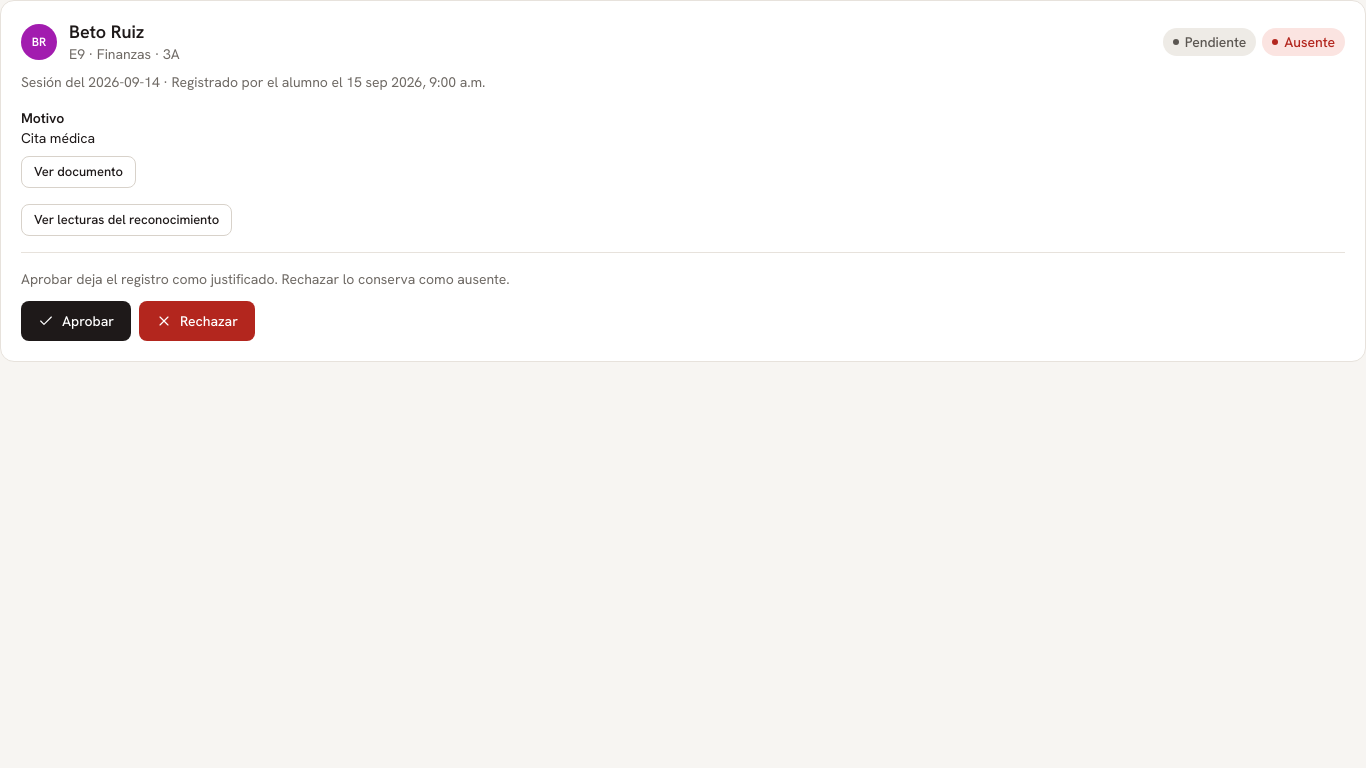
Scenario: JustificanteCard › rechazar exige el motivo dentro del diálogo: sin texto no resuelve y marca el campo
Click the button "Rechazar": (197,320) [139,300,255,340]
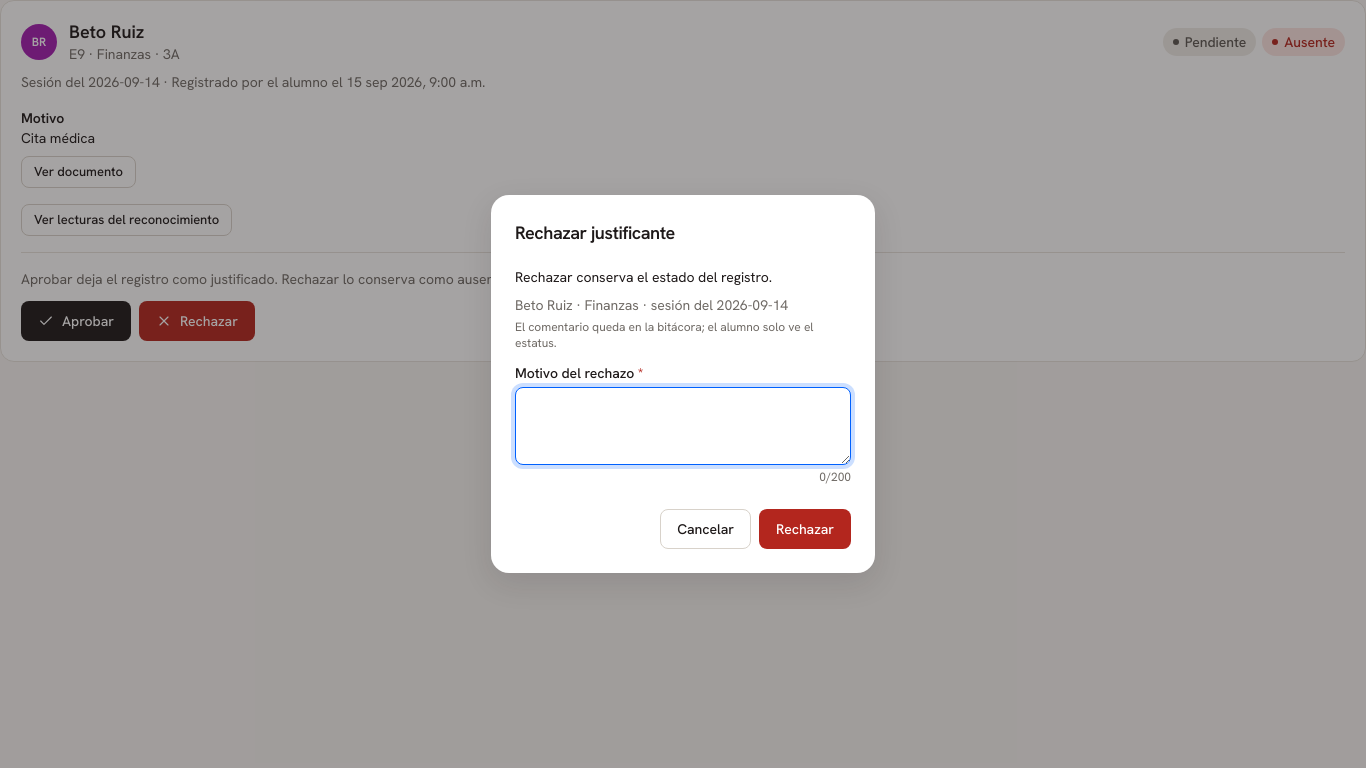
Result: the heading "Rechazar justificante" is shown at [515,221,675,244]
Click the button "Rechazar": (805,529) [759,509,851,549]
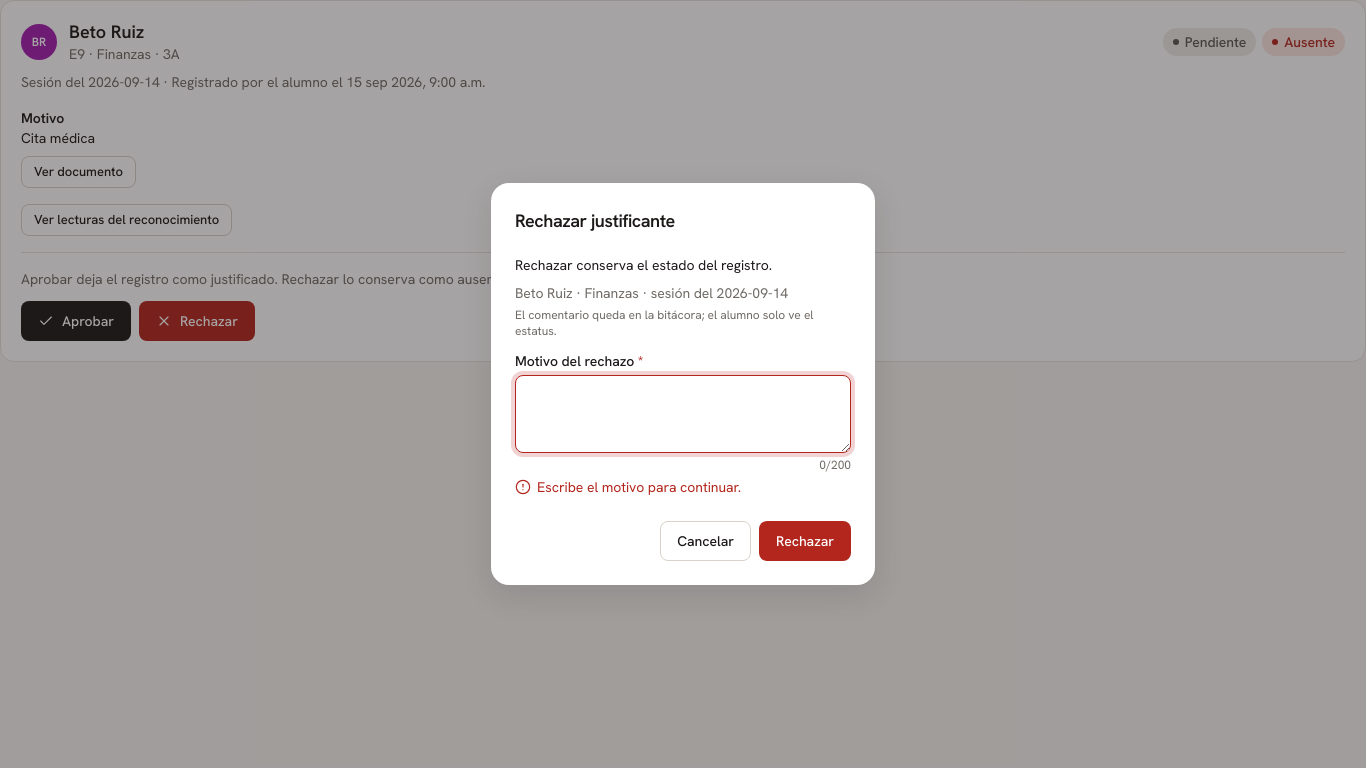
Result: the text "Escribe el motivo para continuar." is shown at [515,478,741,496]
In the text box labelled "Motivo del rechazo *": (683,414) [515,375,851,453], type "  El documento no corresponde a la fecha "
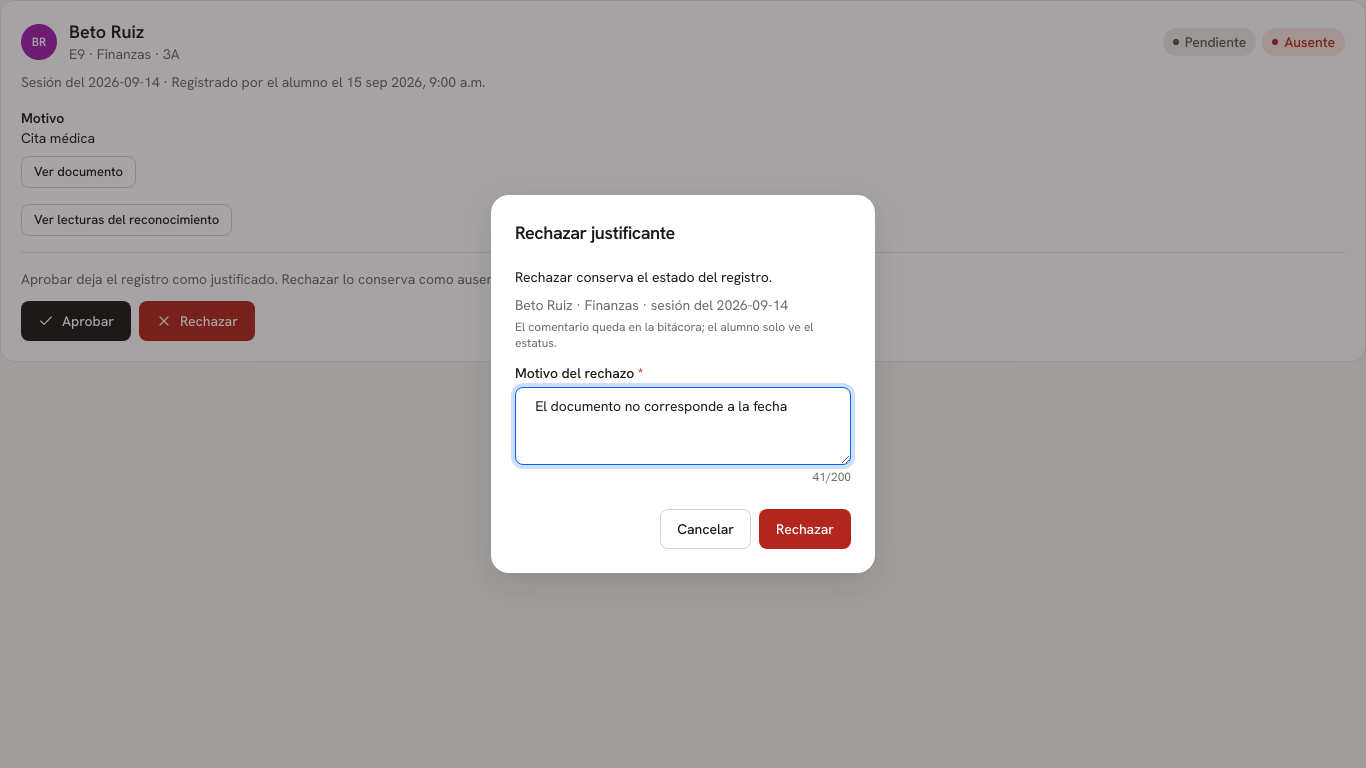
Click the button "Rechazar": (805,529) [759,509,851,549]
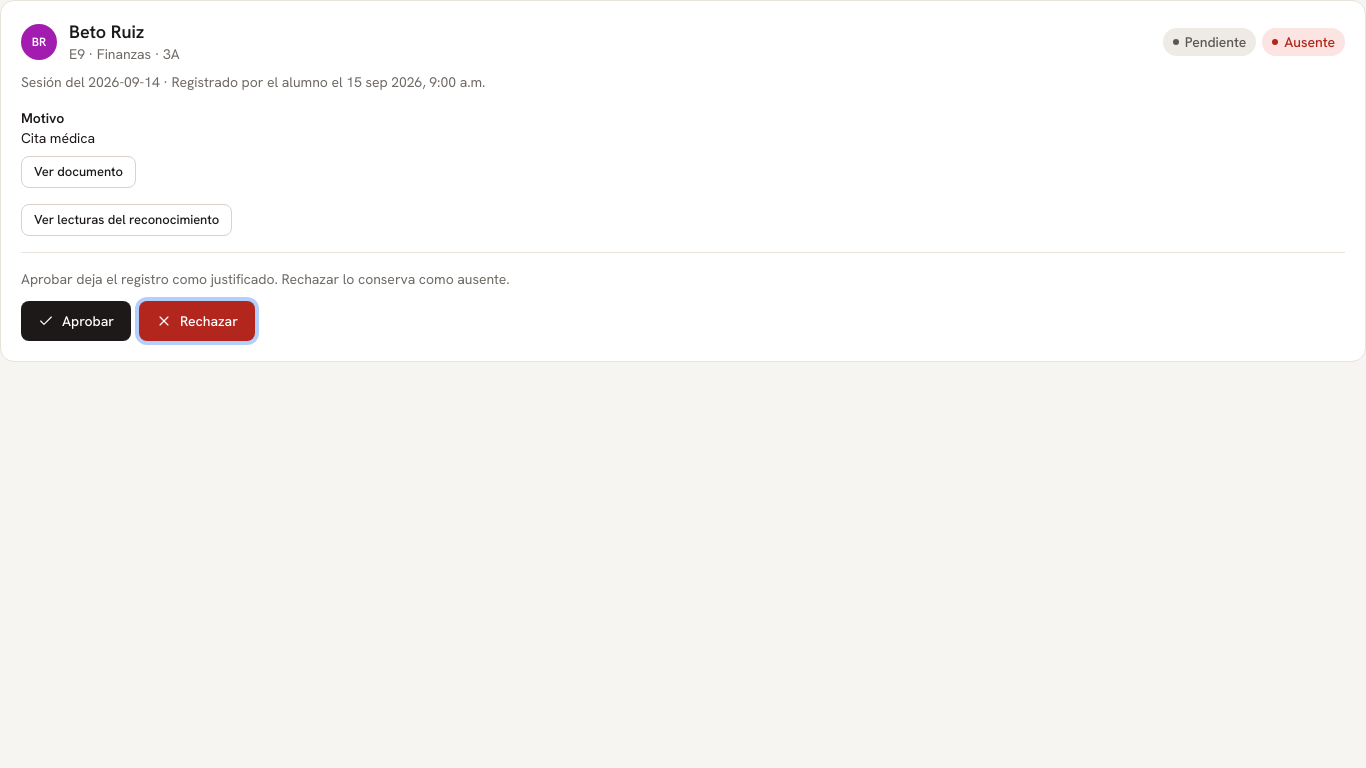
Result: the dialog is gone
